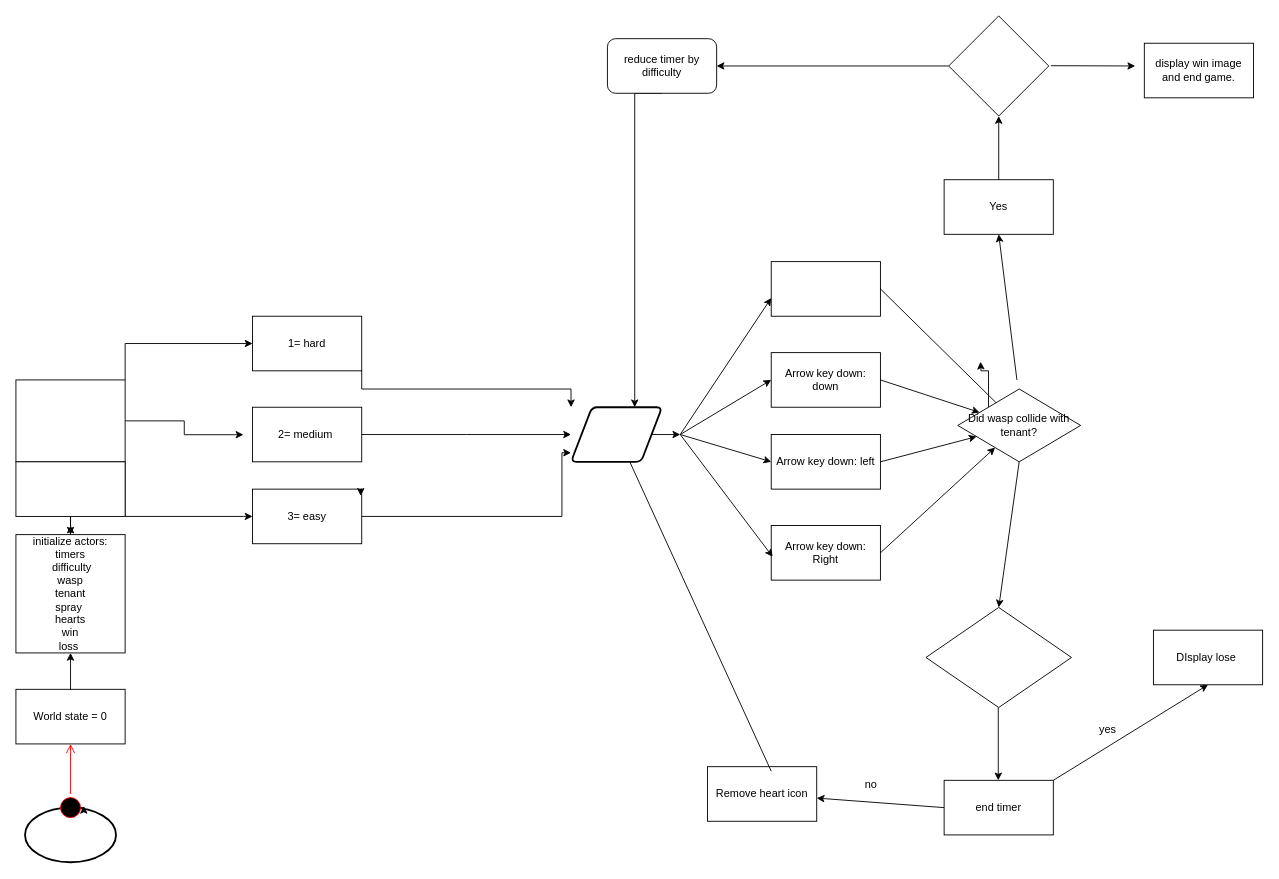
Some shapes in this 1279 by 879 pixel diagram are drawn without their labels. The shapes that lost their labels are listed below. From the top down, each one's box as (x1, y1, x2, y2) in pixels, then its label:
(948, 15, 1049, 116): Is the timer less than 15 seconds?
(770, 261, 880, 316): Arrow key Up: up
(15, 379, 125, 462): Prompt: "What difficulty would you like". User Input Difficulty
(570, 406, 662, 462): game state: 2
(15, 461, 125, 516): game state: 1
(925, 607, 1072, 708): Did wasp collide with the spray with one life
(24, 806, 116, 863): Start
